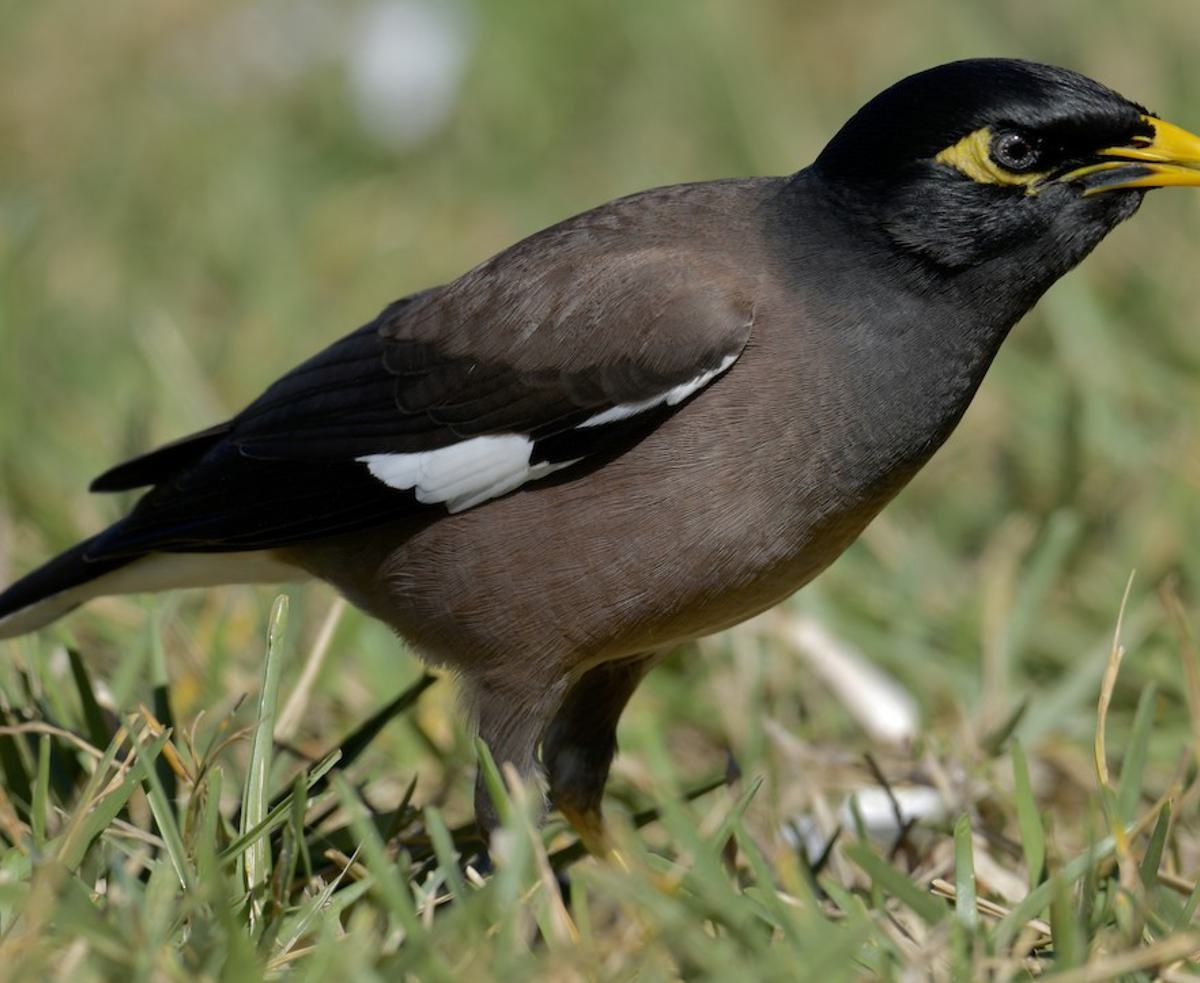myna: (79, 45, 1189, 707)
